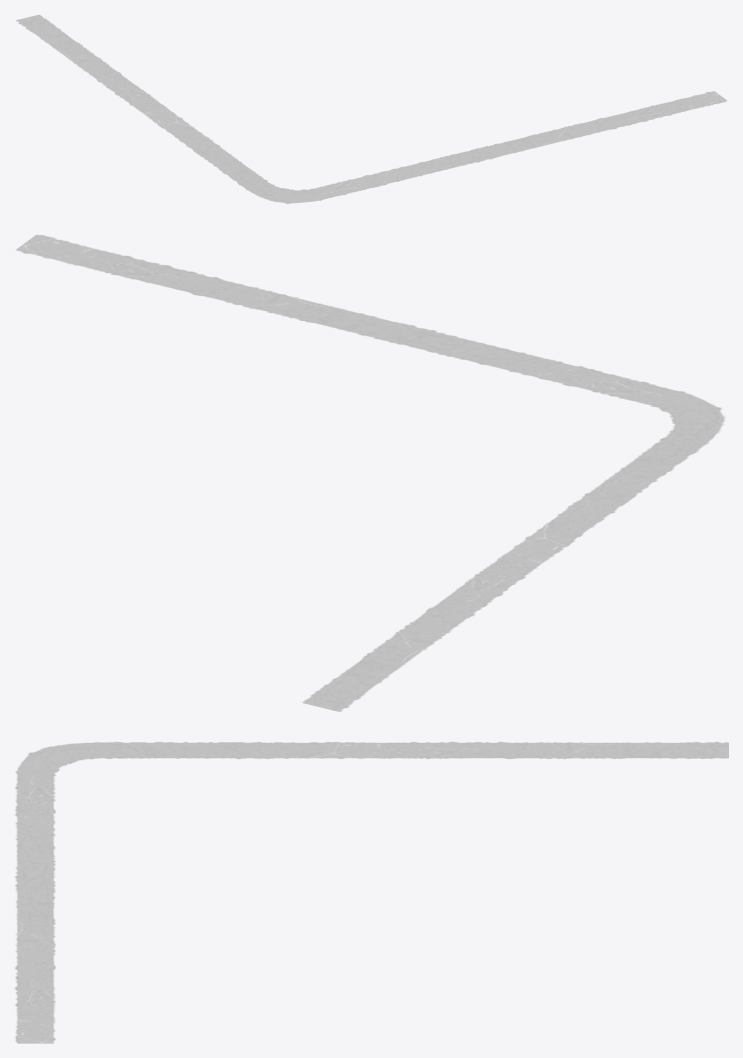
Rendered from q-downtown-sidewalk-corner-flat-3m-stripe.glb.
The picture shows the model from 3 angles, top to bottom: view 1: azimuth 30°, elevation 25°; view 2: azimuth 150°, elevation 25°; view 3: azimuth 270°, elevation 25°; orthographic projection. The views are drawn at different scales.
Parts seen in each view (by area): view 1: Sidewalk_Corner_Flat_3m_Stripe; view 2: Sidewalk_Corner_Flat_3m_Stripe; view 3: Sidewalk_Corner_Flat_3m_Stripe.
Part boxes in pixels (box(x1,y1,x2,y2)): Sidewalk_Corner_Flat_3m_Stripe: box(16, 14, 727, 203); Sidewalk_Corner_Flat_3m_Stripe: box(16, 235, 724, 711); Sidewalk_Corner_Flat_3m_Stripe: box(15, 742, 728, 1043).
Size of the model in its own units: 3.4 by 0 by 3.4.
Materials: 1 (1 with a texture image).
